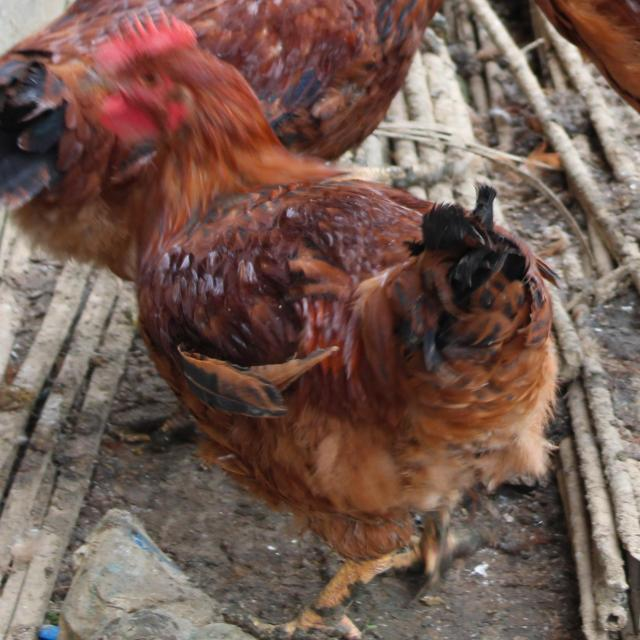cook: (99, 81, 640, 640), (41, 0, 333, 283)
